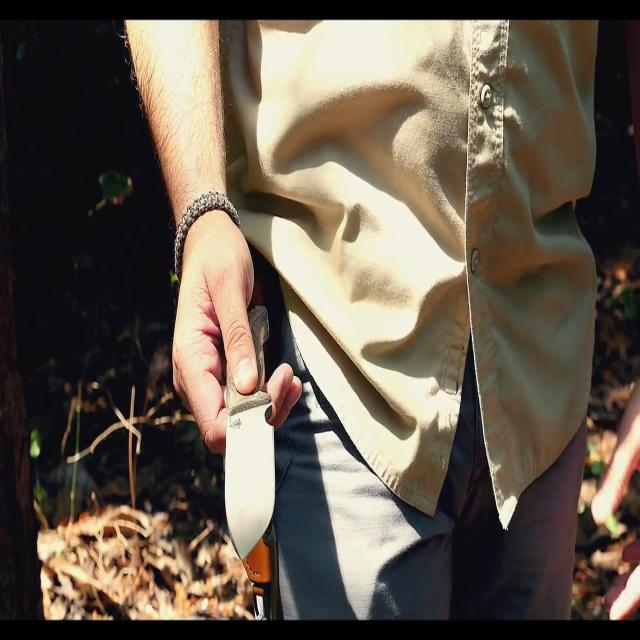knife: (225, 358, 279, 568)
